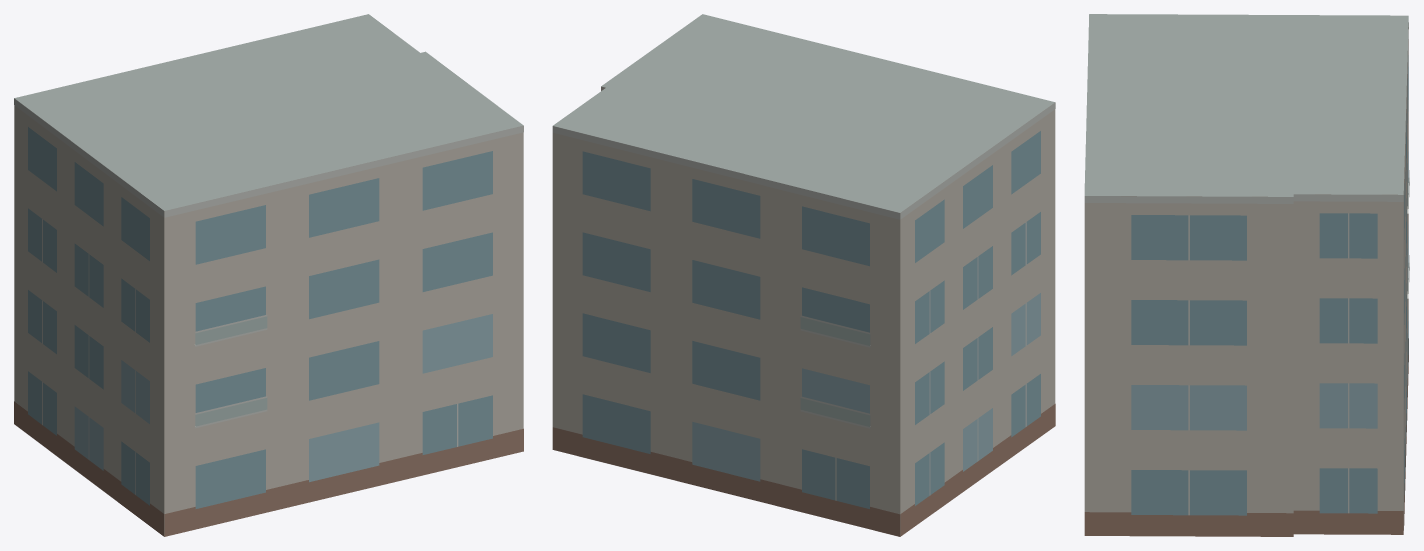
The model's file is survey-upis-32895150.glb.
3 views of the same model, side by side, from view 1: azimuth 30°, elevation 25°; view 2: azimuth 150°, elevation 25°; view 3: azimuth 270°, elevation 25° (orthographic). The views are drawn at different scales.
Parts seen in each view (by area): view 1: survey-upis-32895150.tmp; view 2: survey-upis-32895150.tmp; view 3: survey-upis-32895150.tmp.
Part boxes in pixels (x1=…): survey-upis-32895150.tmp: x1=14, y1=14, x2=523, y2=536; survey-upis-32895150.tmp: x1=552, y1=14, x2=1055, y2=536; survey-upis-32895150.tmp: x1=1084, y1=14, x2=1409, y2=536.
Bounding box in the file's own units: 13.51 × 11.7 × 10.15.
